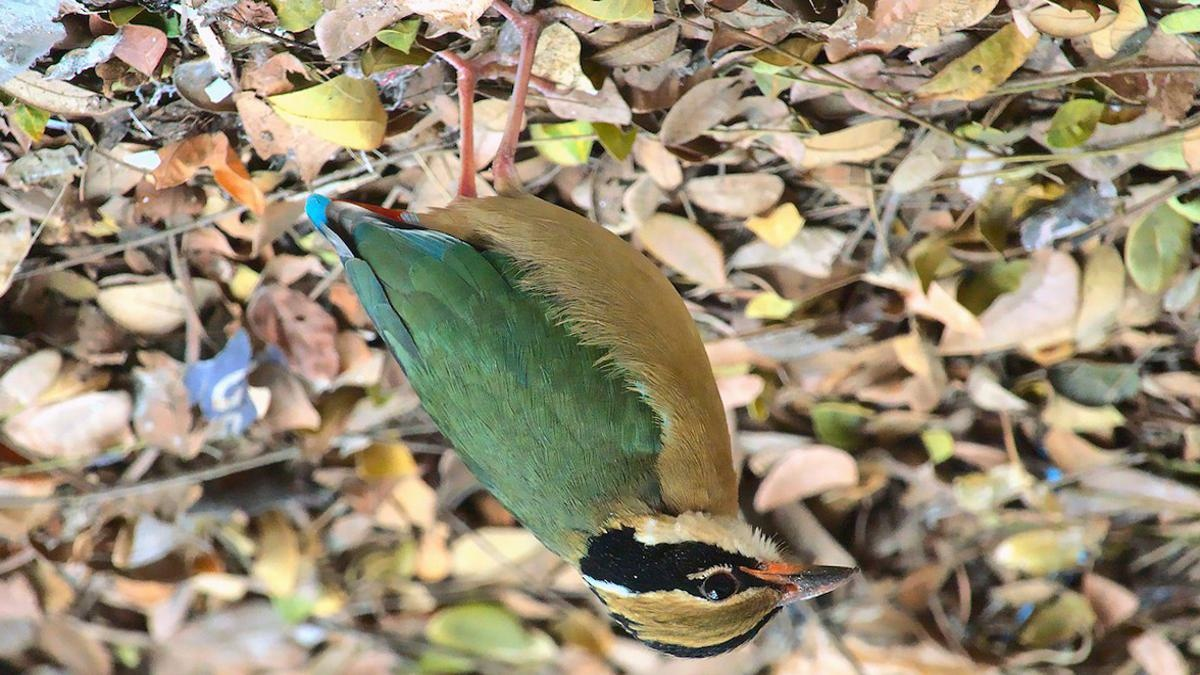pitta: (297, 52, 878, 661)
